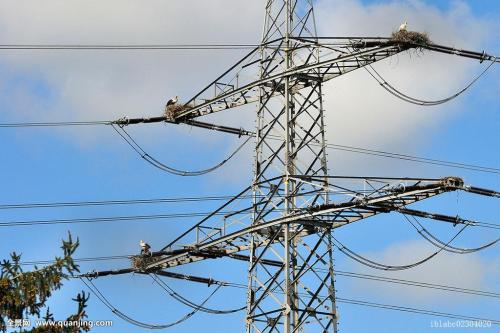bird-nest: (392, 31, 433, 43), (131, 254, 163, 267), (166, 105, 193, 116)
